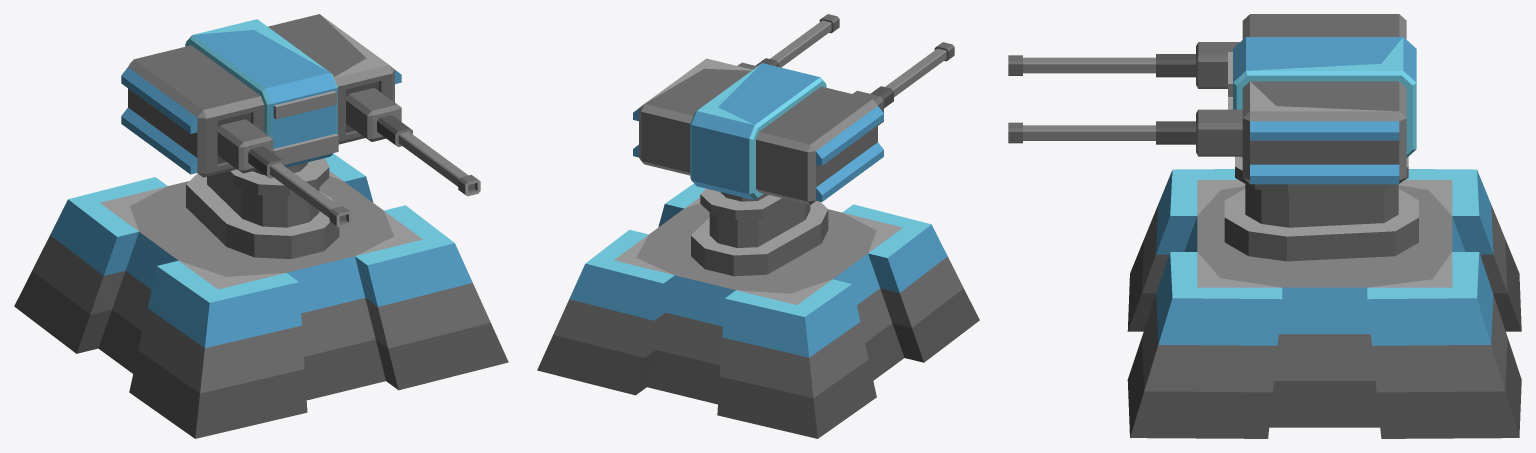
Rendered from tower_rapid_blue_1.fbx.
The picture shows the model from 3 angles, left to right: view 1: azimuth 30°, elevation 25°; view 2: azimuth 150°, elevation 25°; view 3: azimuth 270°, elevation 25°; orthographic projection. The views are drawn at different scales.
Visible parts, largest first — view 1: tower_rapid_blue_1, top_rapid_blue_1; view 2: tower_rapid_blue_1, top_rapid_blue_1; view 3: tower_rapid_blue_1, top_rapid_blue_1.
Part boxes in pixels (<box>): tower_rapid_blue_1: <box>14,153,508,438</box>; top_rapid_blue_1: <box>121,14,480,258</box>; tower_rapid_blue_1: <box>537,183,979,438</box>; top_rapid_blue_1: <box>633,14,954,276</box>; tower_rapid_blue_1: <box>1127,169,1521,438</box>; top_rapid_blue_1: <box>1008,14,1418,261</box>.
Size of the model in its own units: 161 by 136 by 209.
